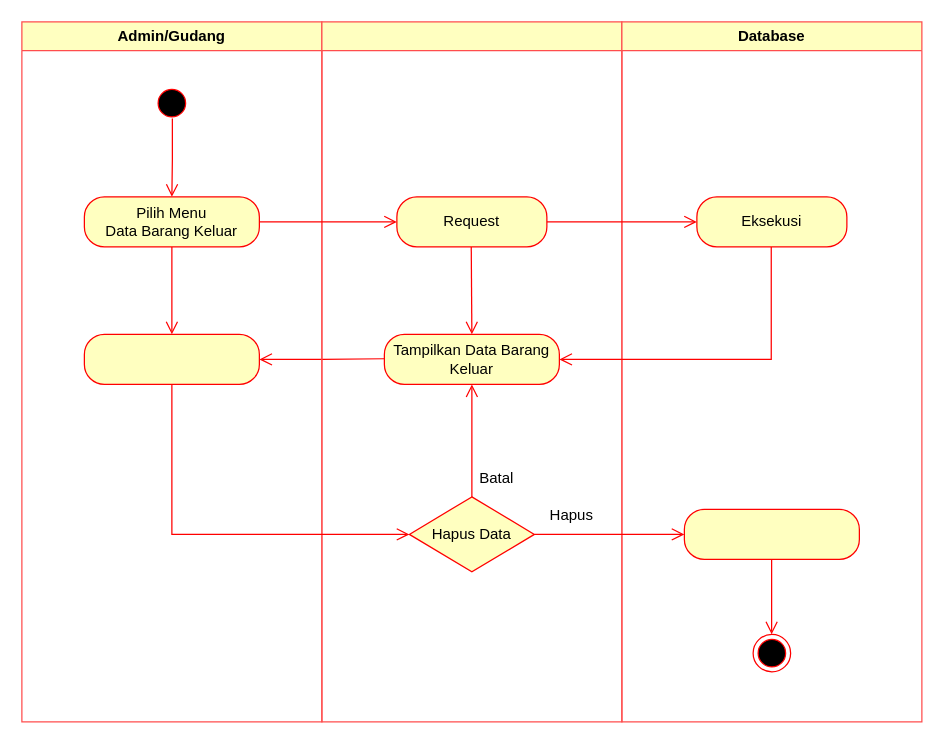
The diagram is 944 pixels wide and 744 high, and some of its shapes have lost their labels. Here are the shapes that lost their labels. From the top down, the box of each, then its label:
(83, 333, 259, 384): Delete Data Barang Keluar
(321, 21, 622, 722): Sistem
(683, 508, 859, 559): Data Barang Masuk Berhasil di Hapus
